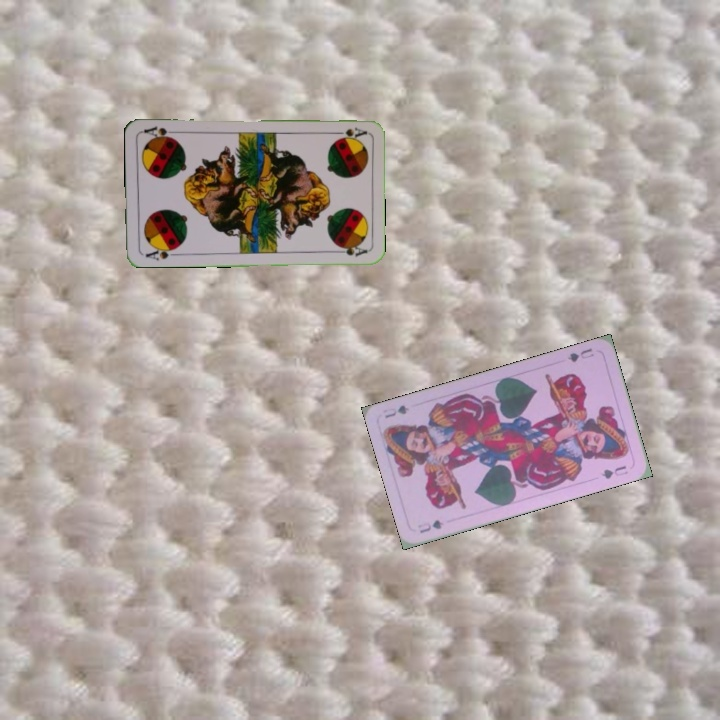GU: (563, 344, 596, 365), (414, 516, 446, 536)
SA: (142, 243, 180, 263), (328, 123, 368, 141)
